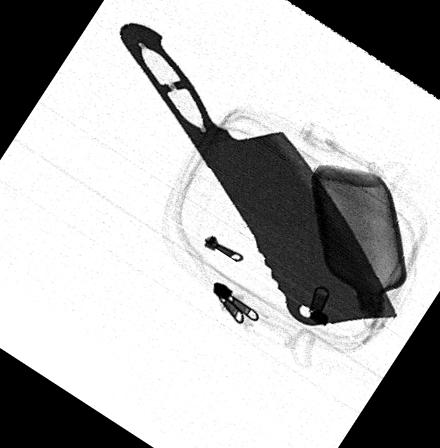Knife: (118, 22, 398, 326)
